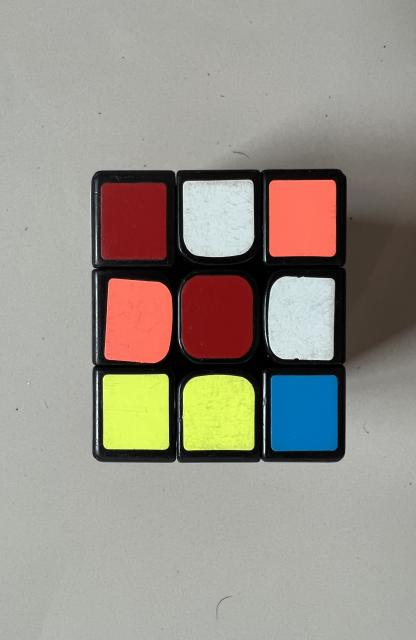Blue: (271, 375, 338, 451)
Orange: (104, 279, 172, 364), (269, 180, 337, 256)
Red: (181, 275, 254, 359), (101, 182, 167, 260)
White: (183, 179, 255, 258), (268, 276, 335, 360)
Yellow: (182, 375, 255, 451), (103, 374, 169, 450)
